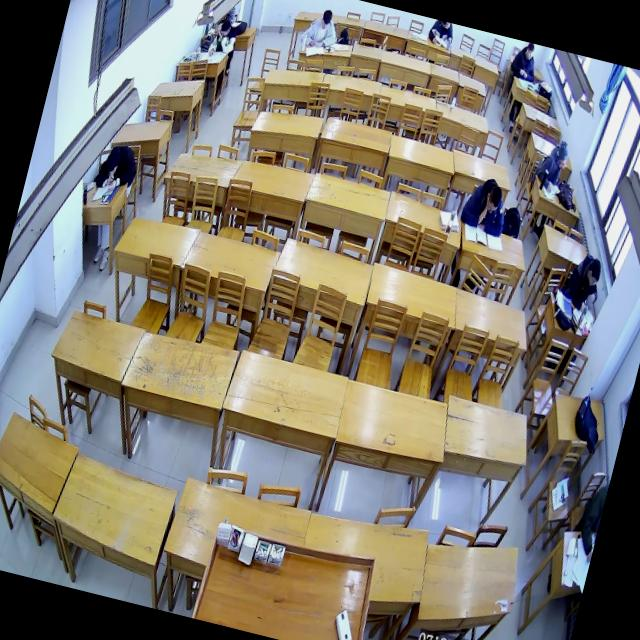bow: (92, 138, 143, 196)
down: (102, 144, 124, 178), (482, 184, 504, 217), (584, 256, 604, 290), (318, 8, 334, 32), (217, 18, 232, 40)
sit: (456, 170, 514, 240), (558, 248, 608, 316), (530, 134, 573, 195), (296, 2, 342, 54), (205, 13, 241, 62), (507, 40, 542, 83)
